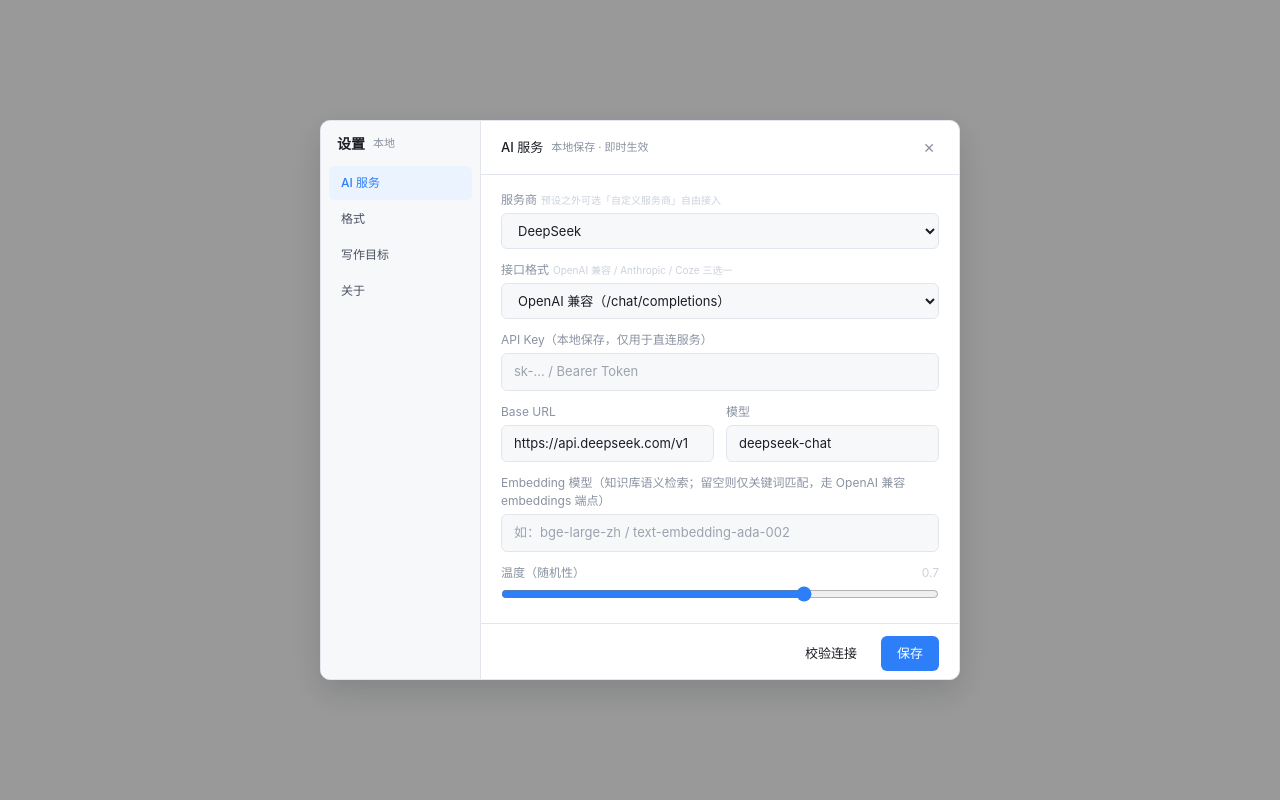
Scenario: 设置弹窗：左右分栏（左侧固定侧边栏 + 右侧内容区） › 切换到格式分类：格式设置项完整展示（字号/行距/缩进/打字机/行号）
This screenshot has width=1280, height=800.
Click the button "格式" at (400, 219), box [329, 202, 472, 236]
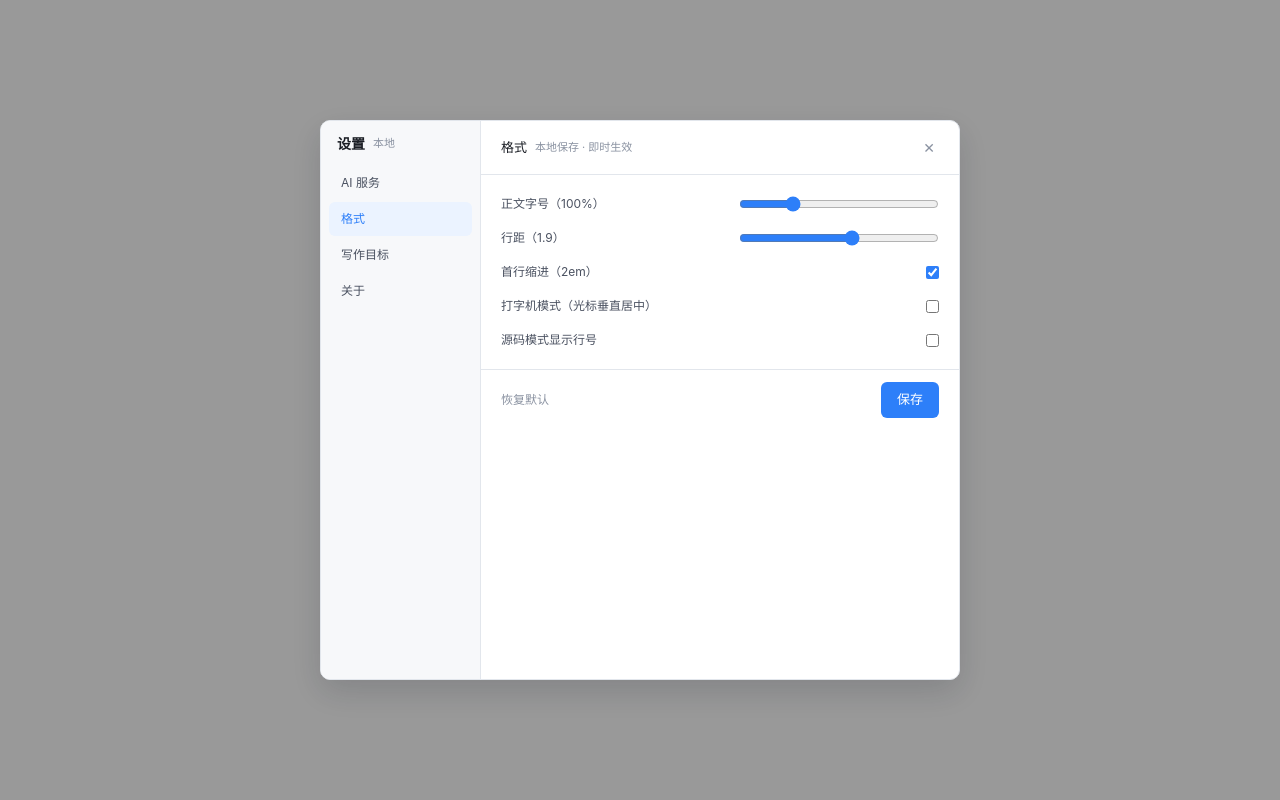
Expected: the text "正文字号（100%）" is shown, [501, 195, 605, 213]
Expected: the text "行距（1.9）" is shown, [501, 229, 565, 247]
Expected: the text "首行缩进（2em）" is shown, [501, 263, 598, 281]
